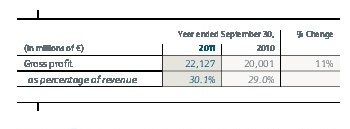table: (0, 0, 350, 129)
